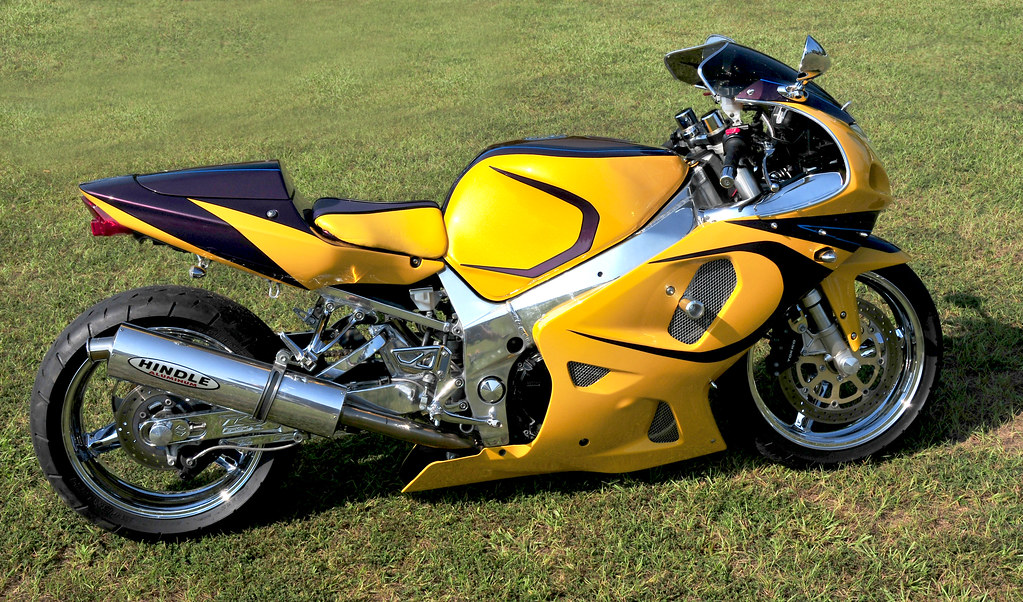motorbike: (29, 35, 946, 541)
